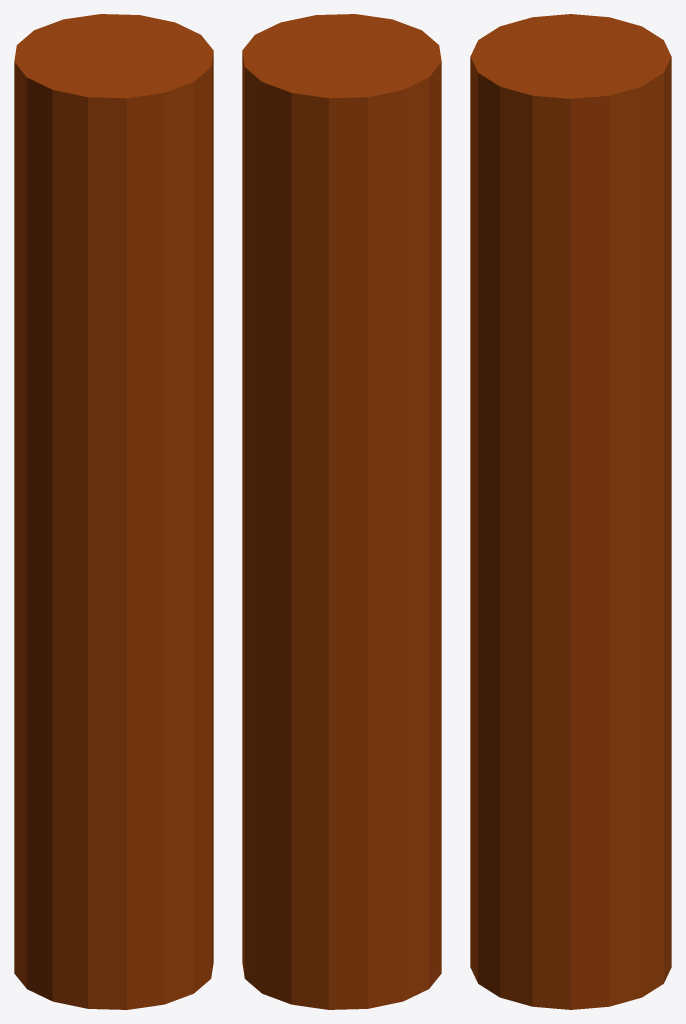
Rendered from Table Leg.glb.
3 renders of one model, left to right at view 1: azimuth 30°, elevation 25°; view 2: azimuth 150°, elevation 25°; view 3: azimuth 270°, elevation 25°, orthographic.
Parts seen in each view (by area): view 1: Cylinder; view 2: Cylinder; view 3: Cylinder.
Part boxes in pixels (x1,y1,x2,y2): Cylinder: [14, 14, 213, 1009]; Cylinder: [242, 14, 441, 1009]; Cylinder: [470, 14, 671, 1009].
Bounding box in the file's own units: 0.2 × 1 × 0.2.
Materials: 1 (1 with a texture image).
